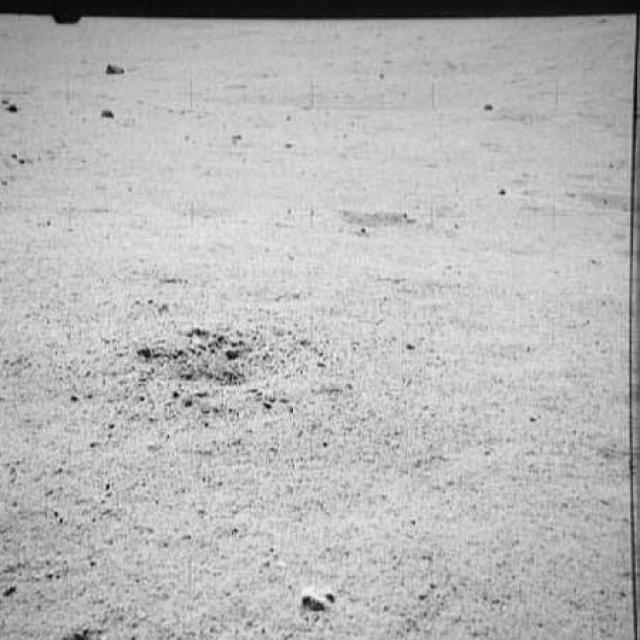crater: (149, 343, 294, 391), (563, 180, 637, 219), (328, 202, 412, 231)
rock: (102, 62, 126, 79), (96, 99, 113, 122), (7, 99, 23, 117)
